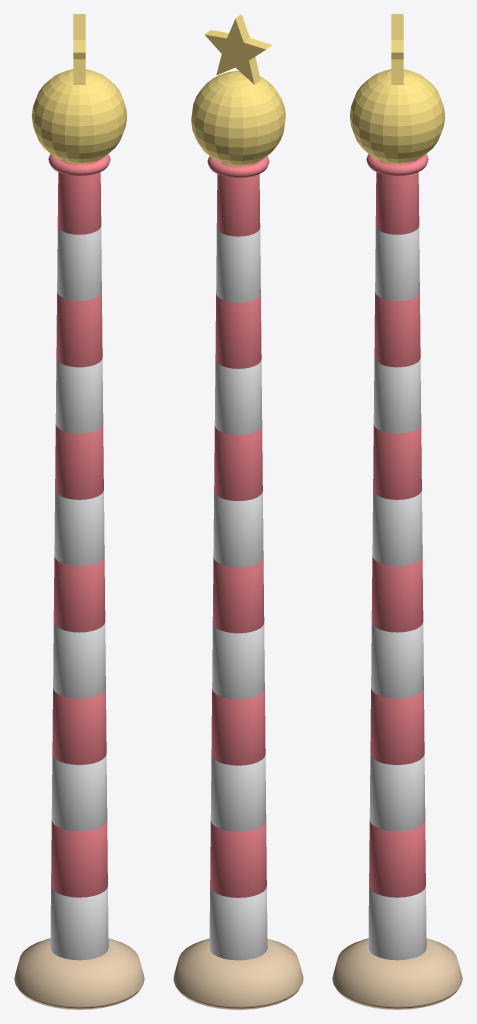
Rendered from MechaMarathonTower.glb.
3 views of the same model, side by side, from view 1: azimuth 90°, elevation 25°; view 2: azimuth 150°, elevation 25°; view 3: azimuth 270°, elevation 25° (orthographic).
Parts seen in each view (by area): view 1: Stripes, Pole, Gold, Base; view 2: Stripes, Pole, Gold, Base; view 3: Stripes, Pole, Gold, Base.
Boxes of the visible parts, x1=… form: Stripes: x1=48, y1=154, x2=110, y2=897; Pole: x1=50, y1=226, x2=108, y2=960; Gold: x1=31, y1=14, x2=127, y2=163; Base: x1=14, y1=938, x2=144, y2=1009; Stripes: x1=207, y1=156, x2=269, y2=897; Pole: x1=209, y1=228, x2=267, y2=960; Gold: x1=191, y1=14, x2=285, y2=165; Base: x1=173, y1=938, x2=303, y2=1009; Stripes: x1=366, y1=154, x2=428, y2=897; Pole: x1=368, y1=226, x2=426, y2=960; Gold: x1=349, y1=14, x2=445, y2=163; Base: x1=332, y1=938, x2=462, y2=1009.
Bounding box in the file's own units: 2.6 × 21.3 × 2.6.
